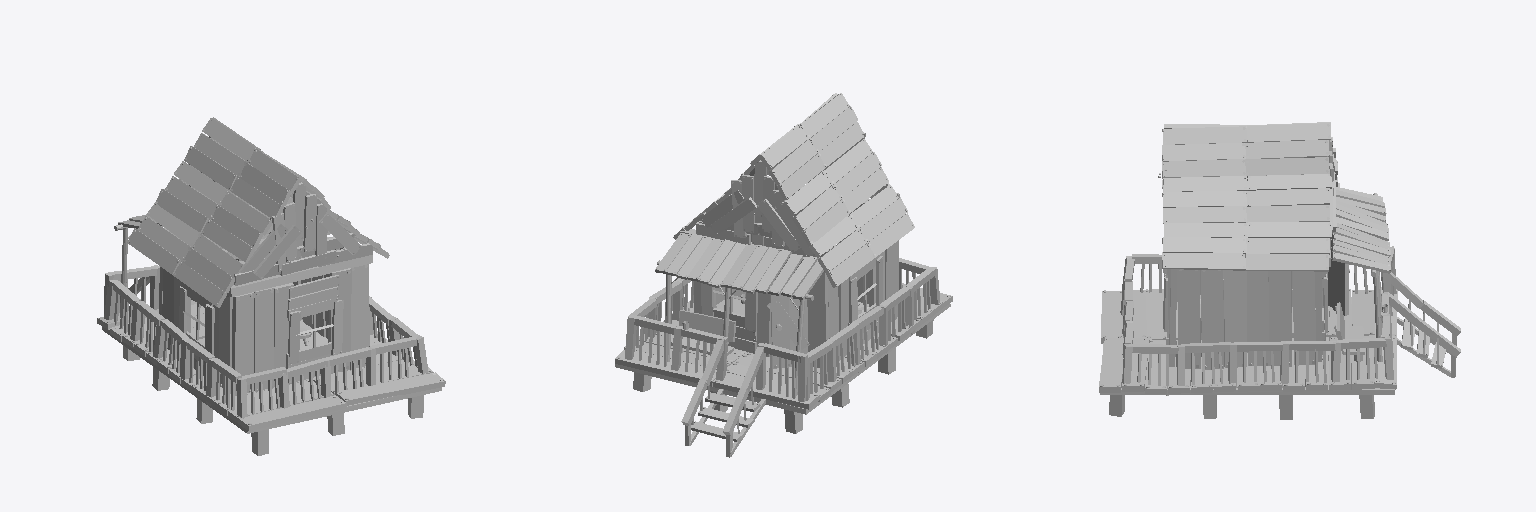
3 renders of one model, left to right at view 1: azimuth 30°, elevation 25°; view 2: azimuth 150°, elevation 25°; view 3: azimuth 270°, elevation 25°, orthographic.
Parts seen in each view (by area): view 1: group[number redacted], group[number redacted], group[number redacted], group[number redacted], group[number redacted], group[number redacted], group[number redacted], group[number redacted], group[number redacted], group[number redacted], group[number redacted], group[number redacted] (+25 smaller); view 2: group[number redacted], group[number redacted], group[number redacted], group[number redacted], group[number redacted], group[number redacted], group[number redacted], group[number redacted], group[number redacted], group[number redacted], group[number redacted], group[number redacted] (+19 smaller); view 3: group[number redacted], group[number redacted], group[number redacted], group[number redacted], group[number redacted], group[number redacted], group[number redacted], group[number redacted], group[number redacted], group[number redacted], group[number redacted], group[number redacted] (+15 smaller).
Part boxes in pixels (x1,y1,x2,y2): group[number redacted]: (156, 161, 272, 262); group[number redacted]: (127, 202, 243, 307); group[number redacted]: (184, 118, 301, 218); group[number redacted]: (232, 292, 254, 395); group[number redacted]: (254, 287, 274, 391); group[number redacted]: (336, 372, 445, 405); group[number redacted]: (238, 395, 346, 430); group[number redacted]: (350, 264, 369, 369); group[number redacted]: (227, 255, 372, 296); group[number redacted]: (236, 367, 286, 417); group[number redacted]: (102, 327, 441, 433); group[number redacted]: (366, 337, 416, 385); group[number redacted]: (782, 139, 888, 246); group[number redacted]: (759, 93, 863, 199); group[number redacted]: (809, 185, 914, 287); group[number redacted]: (700, 160, 813, 256); group[number redacted]: (756, 343, 807, 401); group[number redacted]: (807, 272, 828, 367); group[number redacted]: (625, 315, 676, 366); group[number redacted]: (615, 350, 716, 386); group[number redacted]: (712, 372, 819, 409); group[number redacted]: (615, 304, 950, 414); group[number redacted]: (671, 308, 735, 355); group[number redacted]: (879, 286, 910, 352); group[number redacted]: (1162, 123, 1330, 177); group[number redacted]: (1162, 222, 1331, 271); group[number redacted]: (1162, 174, 1331, 223); group[number redacted]: (1201, 270, 1223, 369); group[number redacted]: (1178, 269, 1200, 368); group[number redacted]: (1224, 270, 1246, 367); group[number redacted]: (1247, 271, 1269, 365); group[number redacted]: (1269, 271, 1291, 366); group[number redacted]: (1293, 271, 1315, 364); group[number redacted]: (1331, 338, 1386, 382); group[number redacted]: (1280, 341, 1335, 387); group[number redacted]: (1176, 342, 1230, 385).
Bounding box in the file's own units: 2 × 2.39 × 3.14.